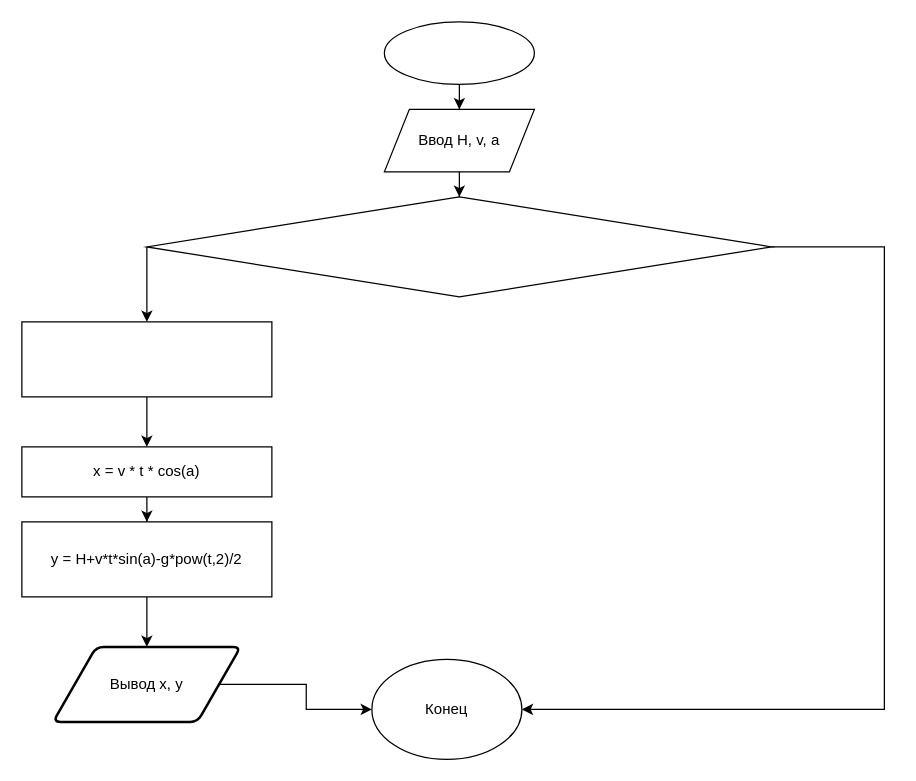
Image size: 916x781. Some labels were removed from this diagram. The box of each missing label's shape, as (x1, y1, x2, y2) in pixels:
1+2*g*H/(pow(v,2)*pow(sin(a),2))>=0 and sin(a)!=0 and v !=0?: (146, 196, 772, 297)
t = v*sin(a)/g*(1+2*g*H/(pow(v,2)*pow(sin(a),2)))): (21, 321, 272, 397)
Старт: (383, 21, 534, 84)
